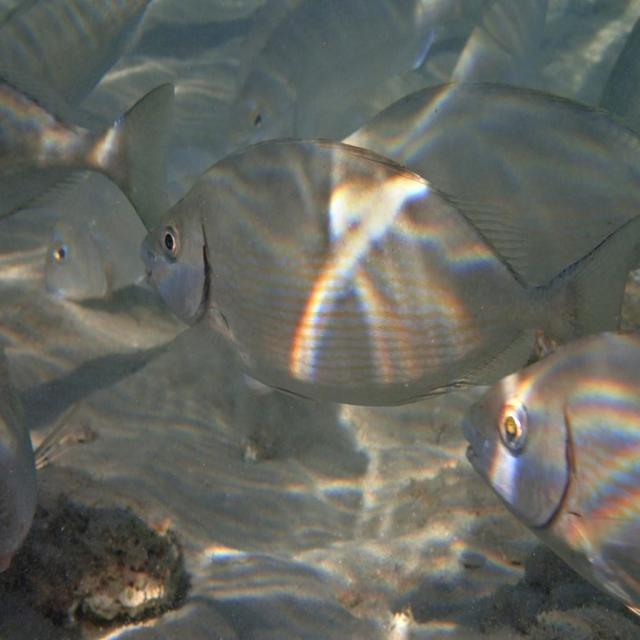Sokar Baligi: (132, 122, 638, 413)
